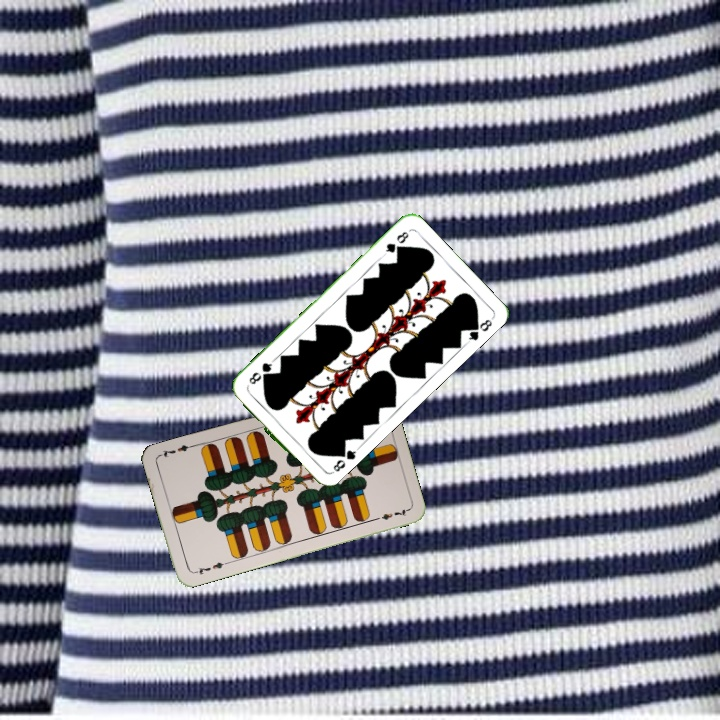E7: (189, 558, 229, 577)
G8: (327, 443, 360, 476), (379, 227, 411, 258)
